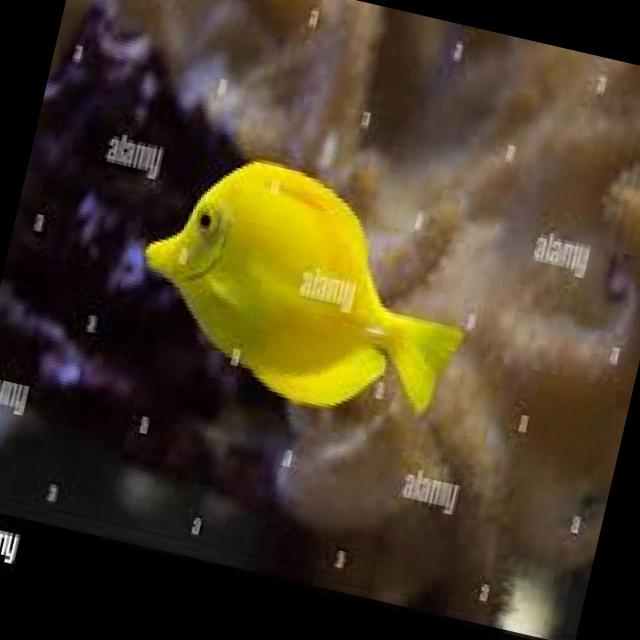YellowTang: (109, 122, 497, 460)
